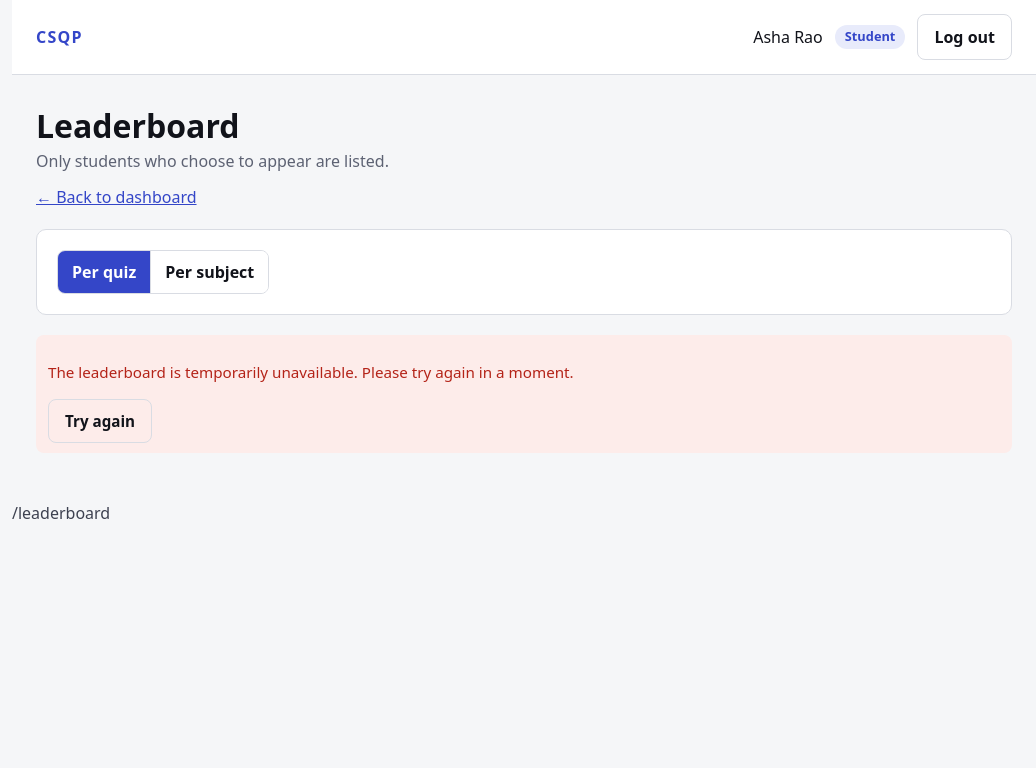
Test case: Leaderboard page (CSQP-29) › shows an empty state and handles errors with retry
Expected: the message shows "temporarily unavailable", [48,362,574,382]
Click the button "Try again".
click(100, 421)  # box [48,399,152,443]
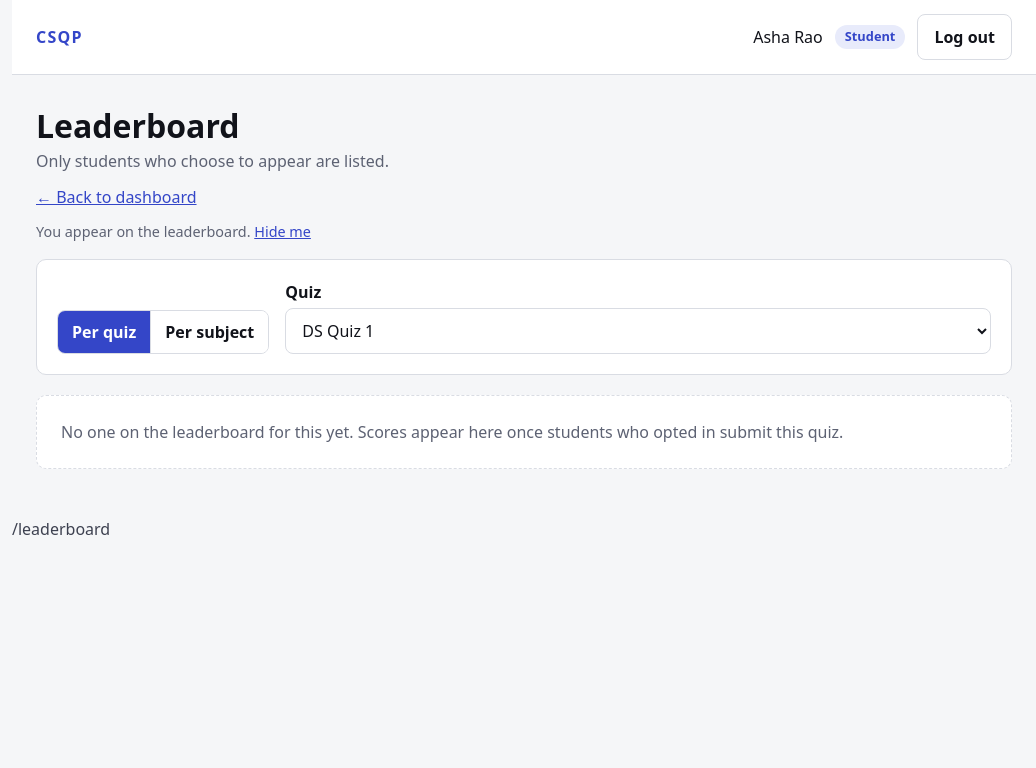
Expected: the text "No one on the leaderboard for this yet" is shown, [61,421,843,443]
